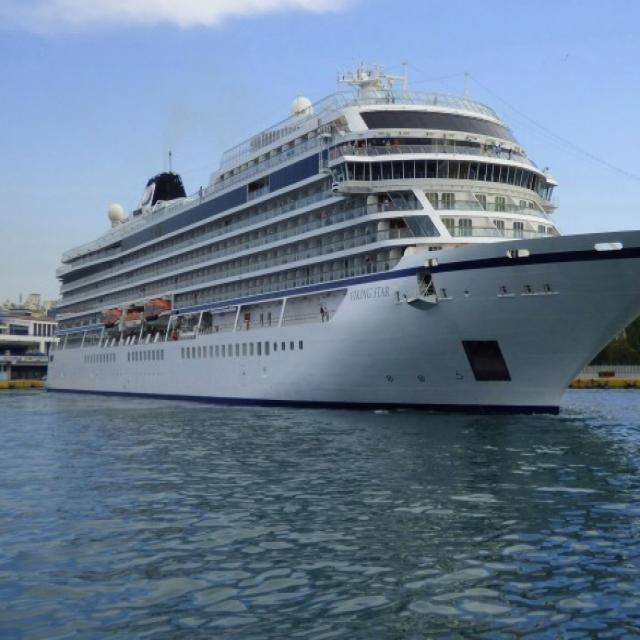cruises: (38, 56, 640, 440)
